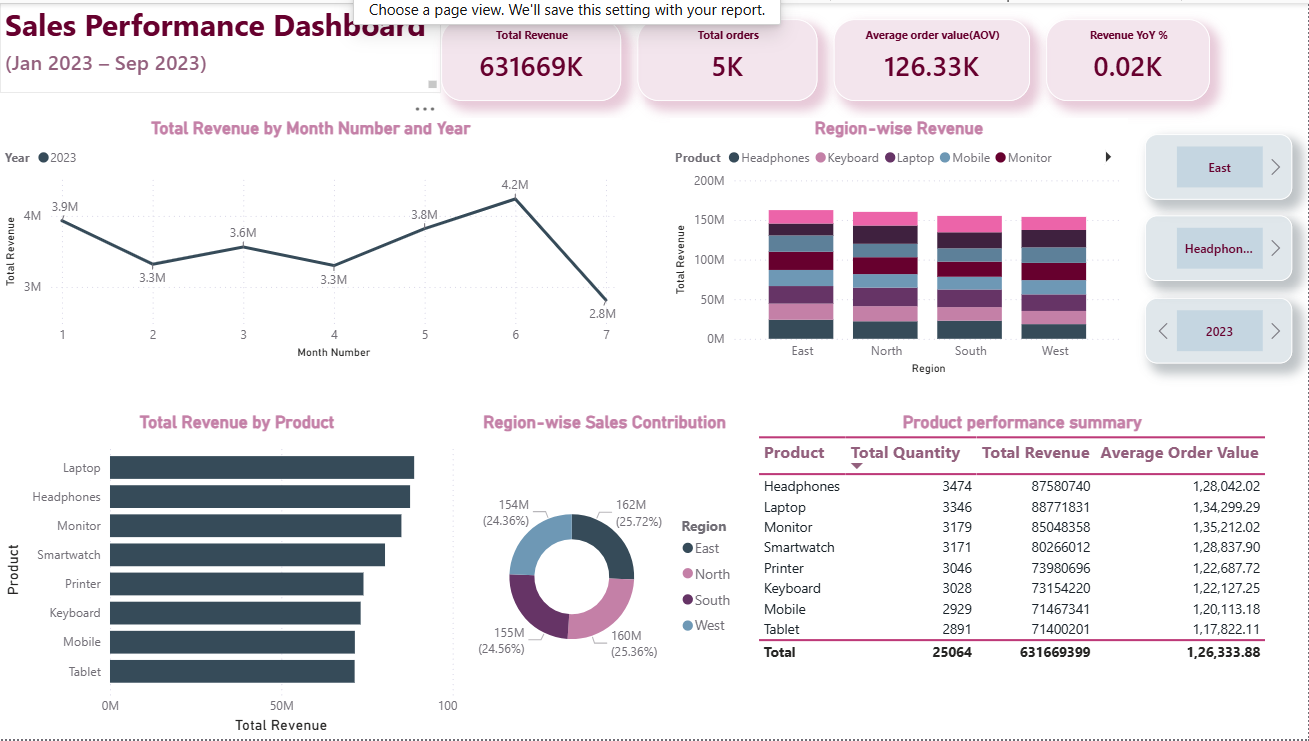

The dashboard page shown, as its layout file describes it:
{"tool":"powerbi","page":{"name":"Page 1","canvas":[1280,720],"ordinal":0},"visuals":[{"type":"card","title":"Total Revenue","fields":{"Values":["Sum(Sales_Data_5000_Rows.Revenue)"]},"box":[28.3,113.2,350.7,99.1],"z":0},{"type":"card","title":"Total Orders","fields":{"Values":["CountNonNull(Sales_Data_5000_Rows.OrderID)"]},"box":[437.6,111.5,350.7,100],"z":1000},{"type":"card","title":"Total Quantity Sold","fields":{"Values":["Sum(Sales_Data_5000_Rows.Quantity)"]},"box":[847.6,111.6,350.7,99.1],"z":2000},{"type":"lineChart","title":"Monthly Revenue Trend","fields":{"Category":["Sales_Data_5000_Rows.MonthName"],"Y":["Sum(Sales_Data_5000_Rows.Revenue)"]},"box":[0,222.1,609,254.3],"z":3000},{"type":"clusteredBarChart","fields":{"Category":["Sales_Data_5000_Rows.Product"],"Y":["Sum(Sales_Data_5000_Rows.Revenue)"]},"box":[609,222.1,671.6,254.3],"z":4000},{"type":"donutChart","title":"Region-wise Sales Contribution","fields":{"Category":["Sales_Data_5000_Rows.Region"],"Y":["Sum(Sales_Data_5000_Rows.Revenue)"]},"box":[0,476.5,437.1,243.7],"z":5000},{"type":"tableEx","title":"Product Performance Summary","fields":{"Values":["Sales_Data_5000_Rows.Product","Sum(Sales_Data_5000_Rows.Quantity)","Sum(Sales_Data_5000_Rows.Revenue)","Sum(Sales_Data_5000_Rows.UnitPrice)"]},"box":[765.8,476.5,514.2,243.7],"z":6000},{"type":"slicer","fields":{"Values":["Sales_Data_5000_Rows.Region","Sales_Data_5000_Rows.Product","Sales_Data_5000_Rows.Year"]},"box":[448.2,492.2,303.5,213.9],"z":7000},{"type":"textbox","title":"Sales Performance Dashboard","box":[0,0,1279.7,105.7],"z":8000}]}

Visuals, with their boxes on the page's 1280x720 design canvas (x1, y1, x2, y2). These are canvas units, not pixel positions in the 1309x741 screenshot, which may show the page scaled, cropped or inside an application window:
"Total Revenue" card: left=28, top=113, right=379, bottom=212
"Total Orders" card: left=438, top=112, right=788, bottom=212
"Total Quantity Sold" card: left=848, top=112, right=1198, bottom=211
"Monthly Revenue Trend" lineChart: left=0, top=222, right=609, bottom=476
clusteredBarChart - Sales_Data_5000_Rows.Product x Sum(Sales_Data_5000_Rows.Revenue): left=609, top=222, right=1281, bottom=476
"Region-wise Sales Contribution" donutChart: left=0, top=476, right=437, bottom=720
"Product Performance Summary" tableEx: left=766, top=476, right=1280, bottom=720
slicer - Sales_Data_5000_Rows.Region x Sales_Data_5000_Rows.Product: left=448, top=492, right=752, bottom=706
"Sales Performance Dashboard" textbox: left=0, top=0, right=1280, bottom=106
